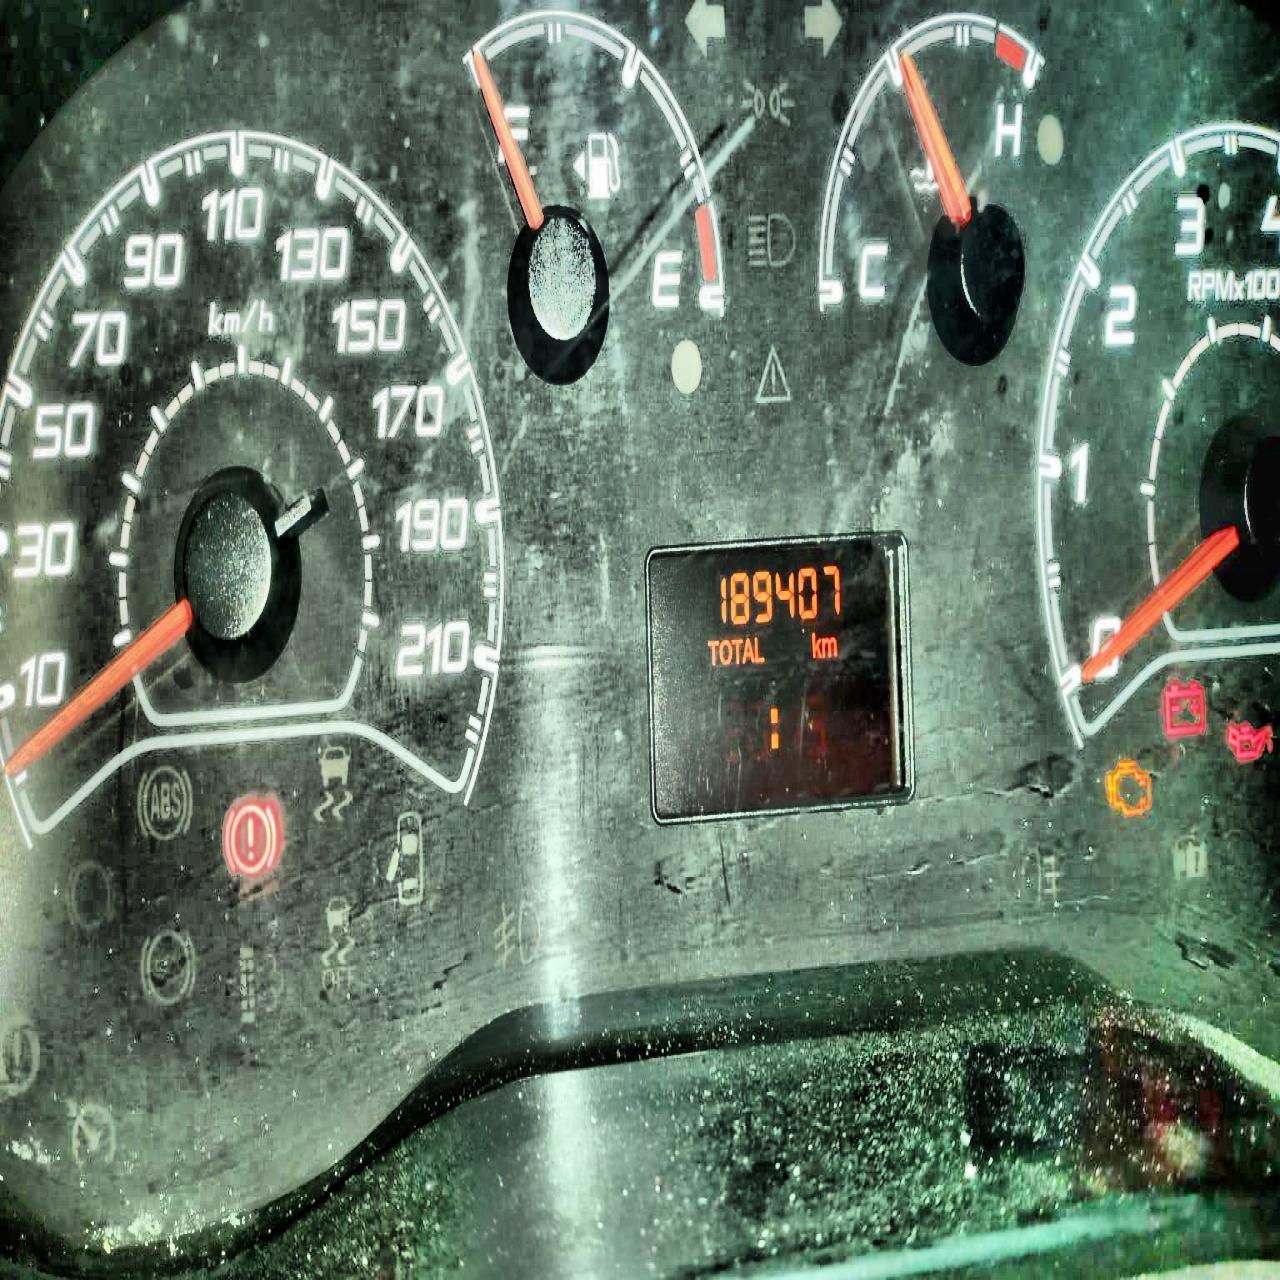0: (797, 566, 817, 619)
1: (720, 574, 726, 625)
4: (775, 568, 794, 618)
7: (822, 564, 840, 614)
8: (730, 570, 749, 624)
9: (751, 568, 771, 622)
X: (821, 635, 837, 658), (741, 635, 754, 663), (770, 707, 778, 748), (719, 638, 731, 663), (707, 639, 719, 666), (730, 638, 742, 663), (754, 635, 764, 662), (811, 629, 821, 658)
odometer: (642, 526, 915, 828)
